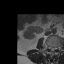CCS_normal: (51, 45, 53, 52)
LFS_normal: (55, 45, 57, 51)
LLS_normal: (53, 45, 55, 51)
RFS_normal: (47, 45, 49, 51)
RLS_normal: (49, 45, 51, 51)
